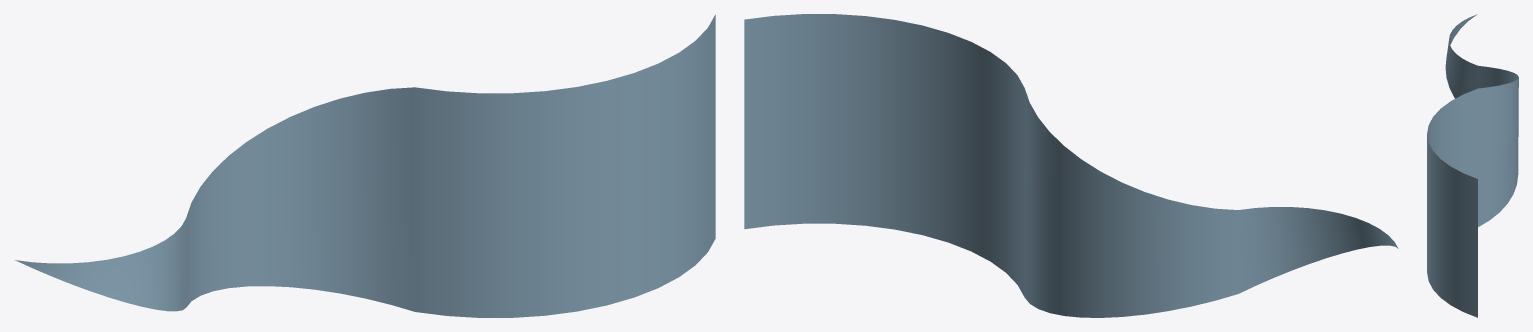
File: flag.fbx
3 views of the same model, side by side, from view 1: azimuth 30°, elevation 25°; view 2: azimuth 150°, elevation 25°; view 3: azimuth 270°, elevation 25° (orthographic). The views are drawn at different scales.
Parts seen in each view (by area): view 1: flag; view 2: flag; view 3: flag.
Boxes of the visible parts, x1,y1,x2,y2 form: flag: (15,14,715,317); flag: (744,14,1398,317); flag: (1427,14,1518,317).
Size of the model in its own units: 147 by 45 by 26.97.
